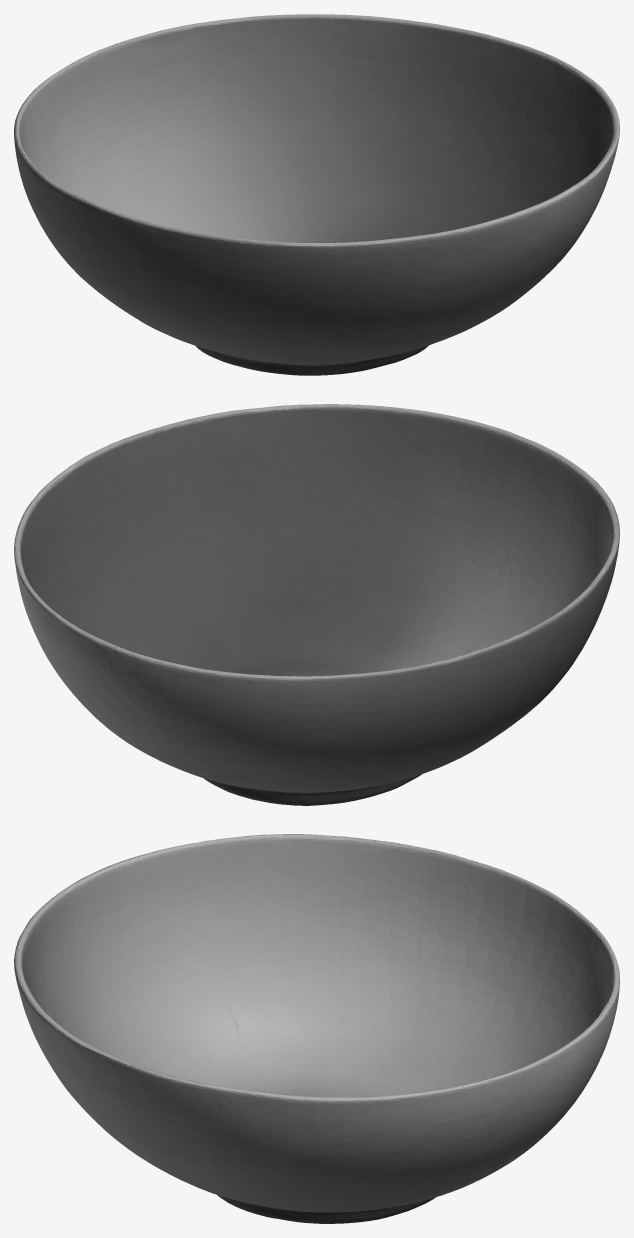
3 renders of one model, top to bottom at view 1: azimuth 30°, elevation 25°; view 2: azimuth 150°, elevation 25°; view 3: azimuth 270°, elevation 25°, orthographic.
Visible parts, largest first — view 1: geometry_0; view 2: geometry_0; view 3: geometry_0.
Boxes of the visible parts, x1,y1,x2,y2 form: geometry_0: (14,14,619,375); geometry_0: (14,404,619,805); geometry_0: (14,834,619,1223).
Size of the model in its own units: 0.1321 by 0.0525 by 0.1321.
Materials: 1 (1 with a texture image).
